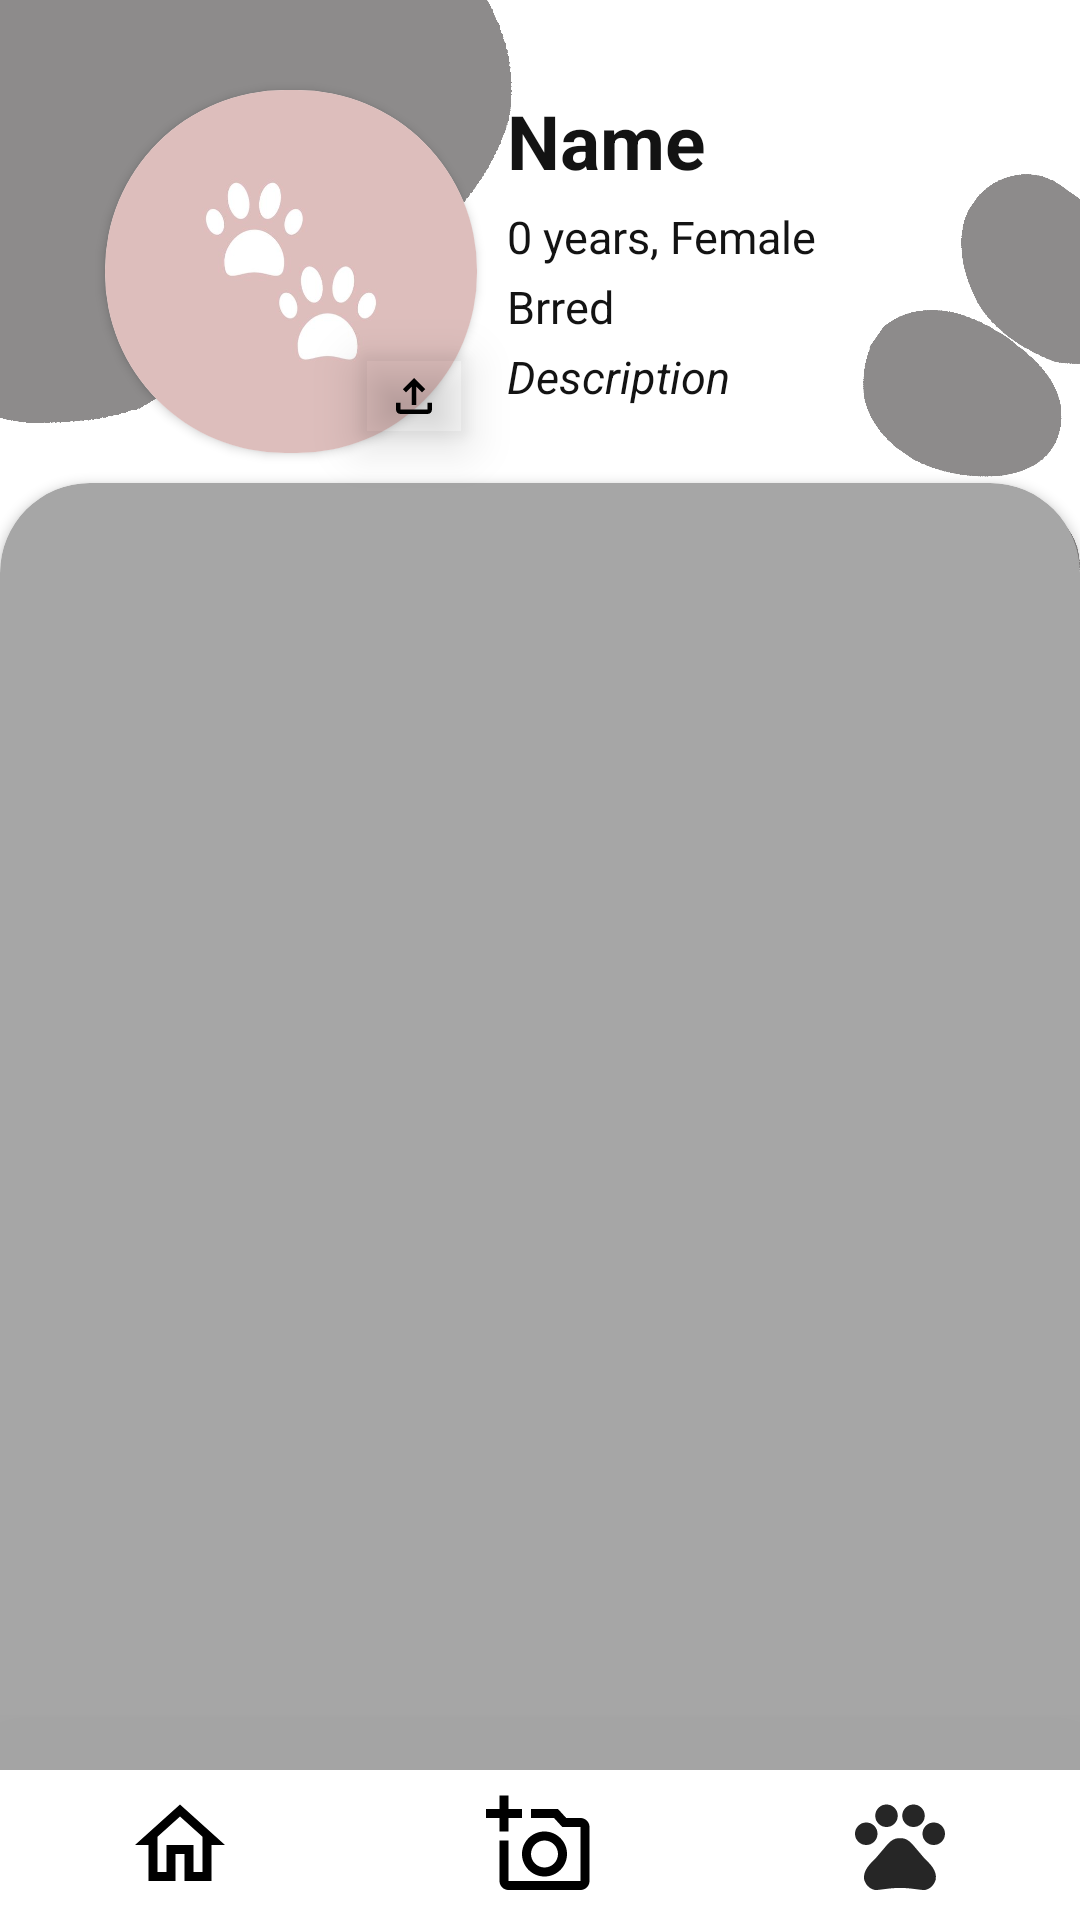

Named icons in this screenshot (1080×1920) and their centers, (x=x, y=y):
add photo: (x=538, y=1842)
home: (x=180, y=1842)
pets: (x=900, y=1847)
